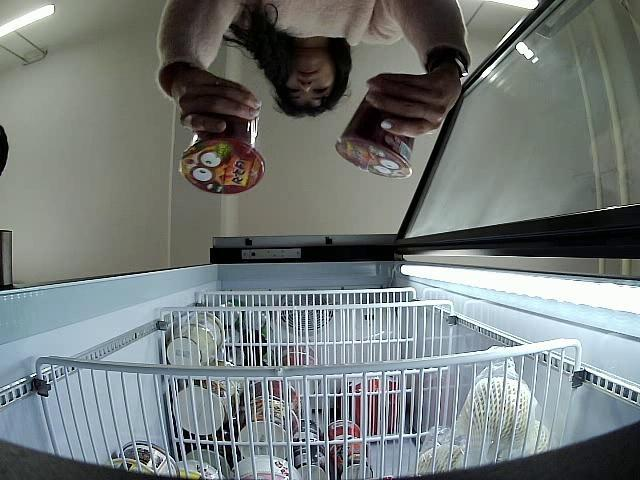06_nuguri_S: (180, 98, 265, 192), (333, 90, 416, 180)
